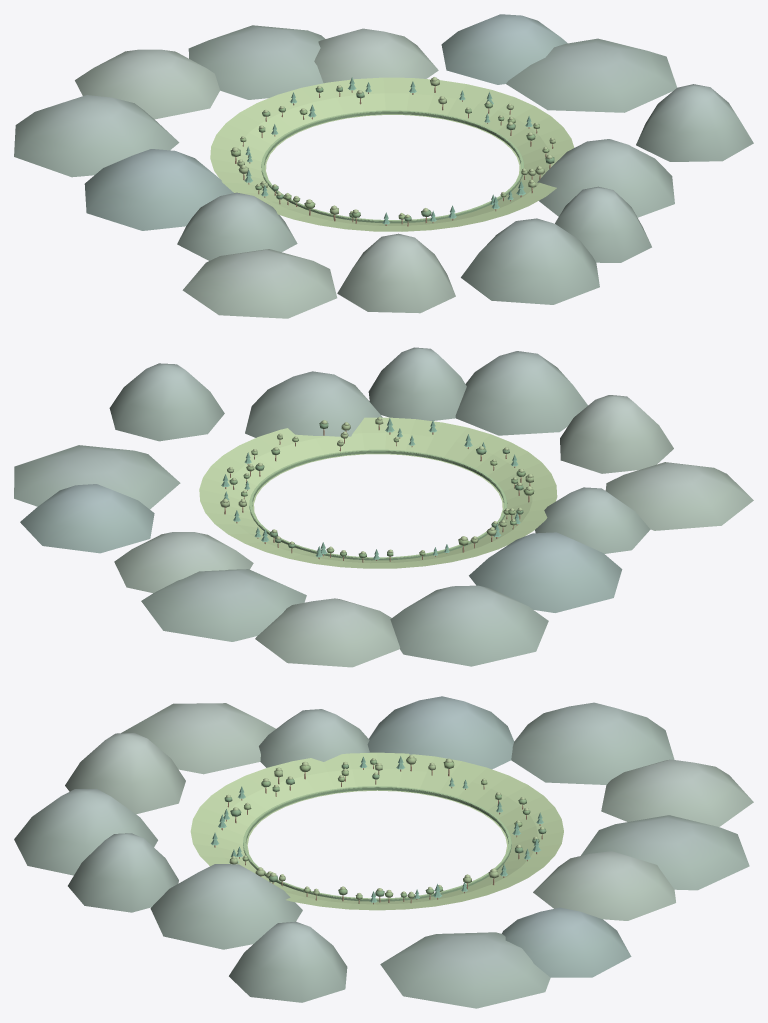
File: env_lite.glb
3 views of the same model, one above another, from view 1: azimuth 30°, elevation 25°; view 2: azimuth 150°, elevation 25°; view 3: azimuth 270°, elevation 25° (orthographic). The views are drawn at different scales.
Visible parts, largest first — view 1: Env_far, Env_terrain, Env_props; view 2: Env_far, Env_terrain, Env_props; view 3: Env_far, Env_terrain, Env_props.
Boxes of the visible parts, x1,y1,x2,y2 form: Env_far: (14, 14, 753, 318); Env_terrain: (210, 77, 574, 231); Env_props: (230, 77, 555, 226); Env_far: (14, 347, 753, 667); Env_terrain: (199, 417, 557, 568); Env_props: (220, 417, 534, 562); Env_far: (14, 696, 753, 1008); Env_terrain: (190, 752, 563, 910); Env_props: (211, 755, 546, 904).
Size of the model in its own units: 274 by 23.09 by 285.
